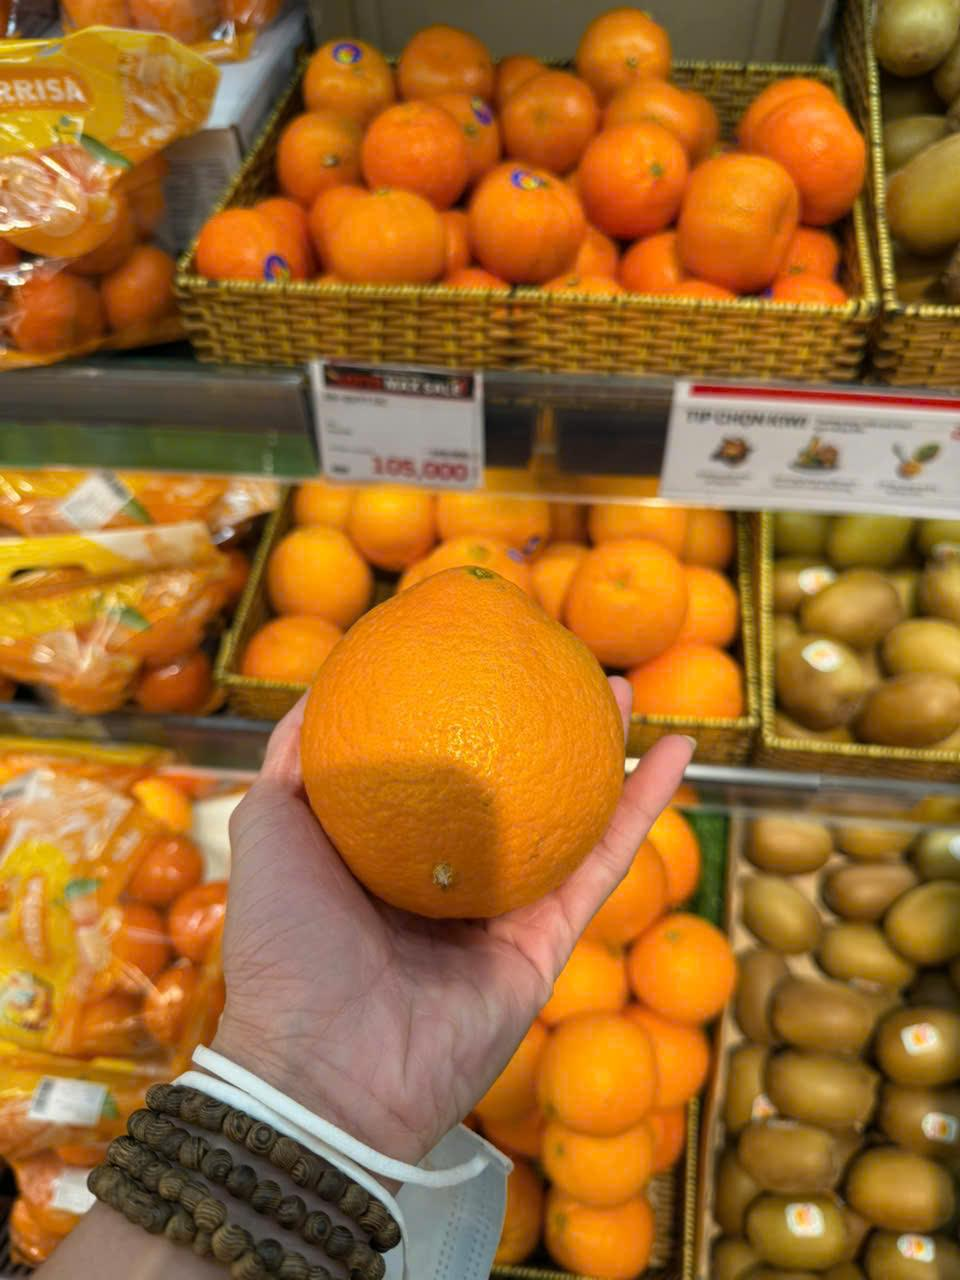orange: (295, 551, 618, 922), (685, 136, 798, 304), (462, 153, 588, 288), (558, 536, 694, 658), (535, 1018, 664, 1134), (318, 183, 458, 286), (760, 90, 872, 210), (358, 98, 478, 196), (580, 120, 680, 232), (495, 63, 598, 164), (535, 1196, 666, 1274), (530, 1126, 654, 1206), (578, 10, 692, 86), (262, 538, 360, 616), (350, 493, 444, 574), (398, 23, 492, 96), (248, 620, 336, 692), (308, 41, 392, 116)
